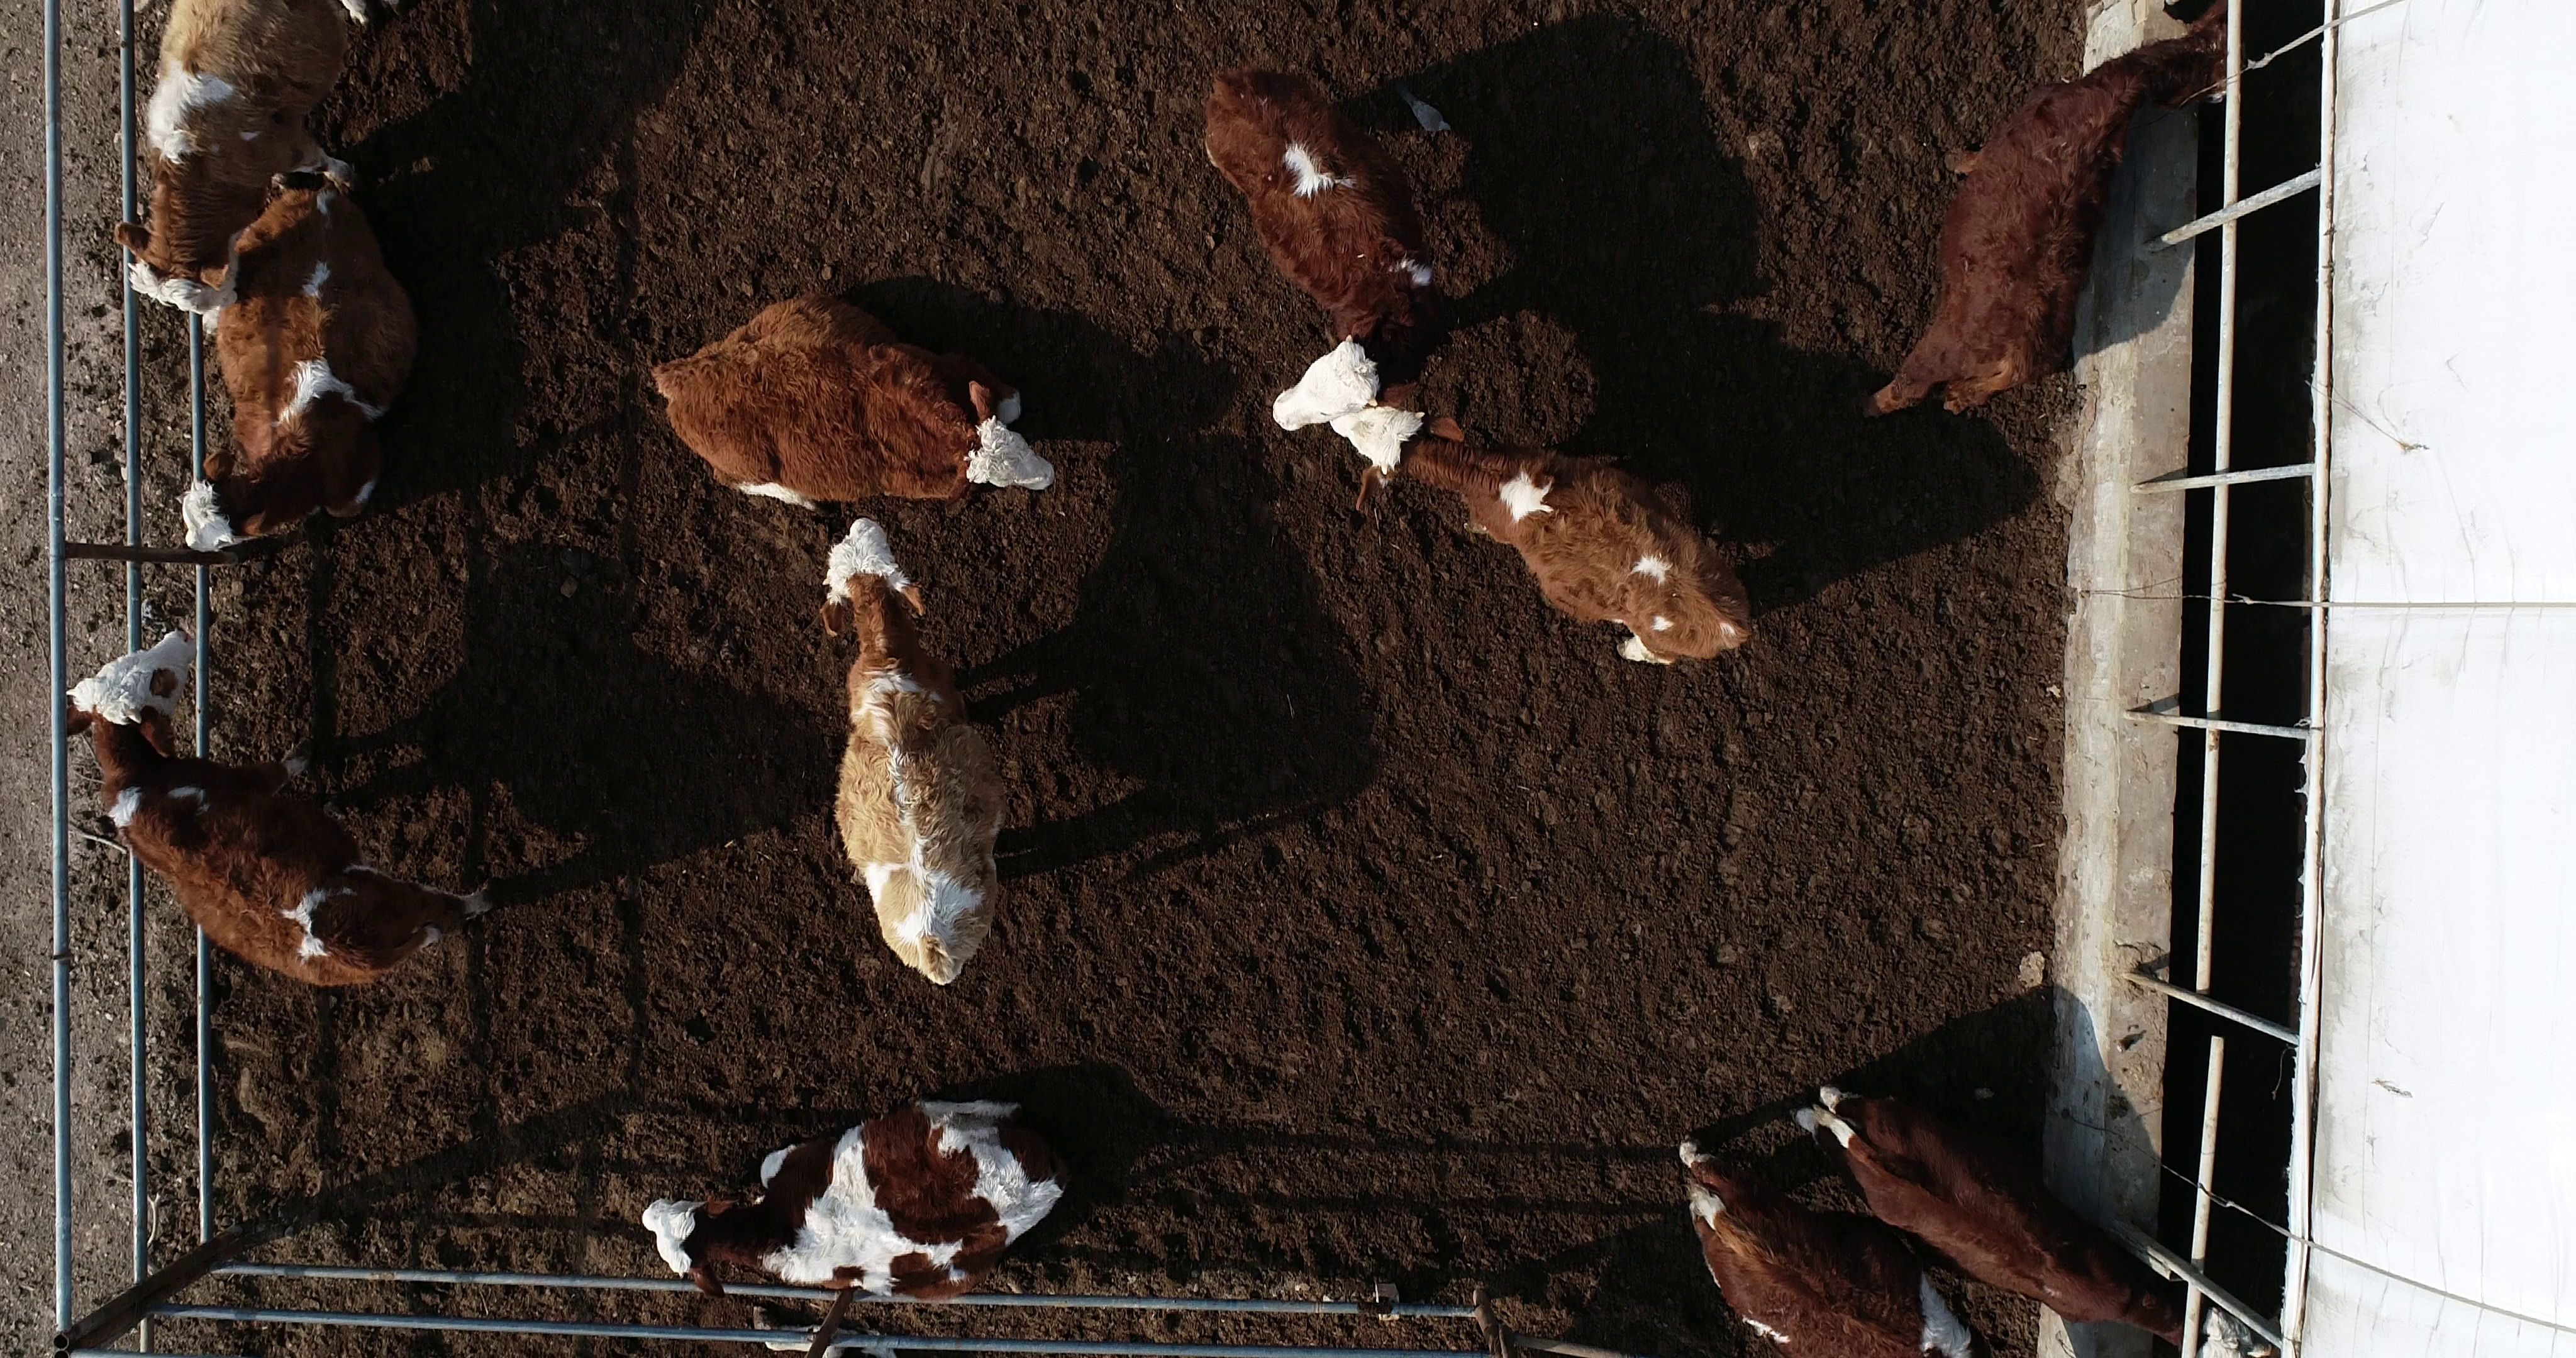cattle: (51, 624, 506, 995), (1849, 2, 2244, 426), (1327, 394, 1765, 673), (165, 172, 440, 567), (634, 285, 1061, 525), (809, 516, 1019, 988), (620, 1097, 1085, 1305), (1199, 61, 1458, 434)
